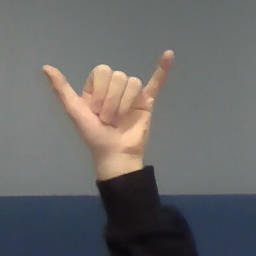Y: (39, 47, 177, 157)
